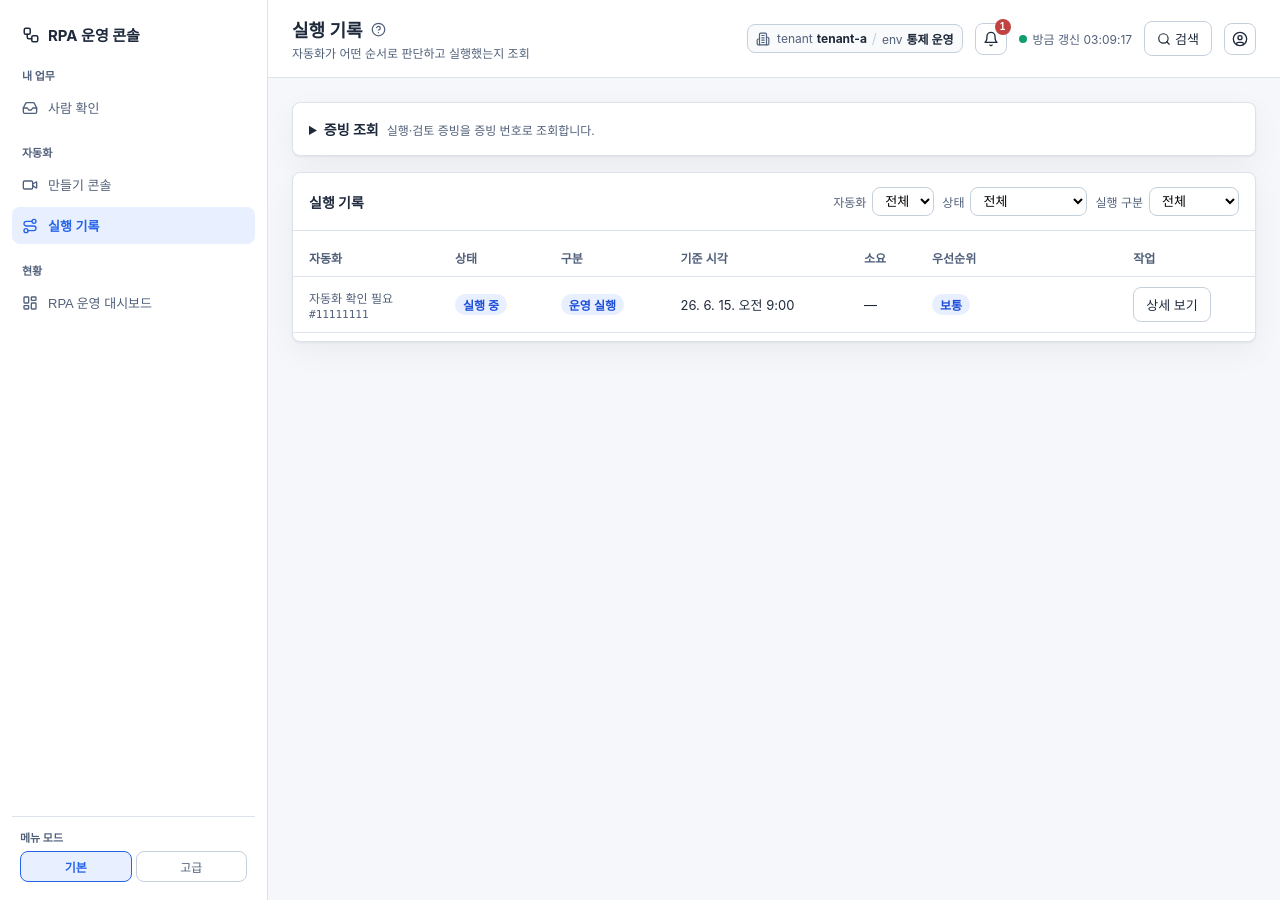
Scenario: 실행 상세 상태 패널 — 터미널 상태(F3) › failed_system → 단일 상태 패널 red + 실패 라벨 + 단계 트레이스 유도 문구
Click the button with aria-label "실행 추적 상세 보기": x=1172, y=304 [1133,287,1211,322]
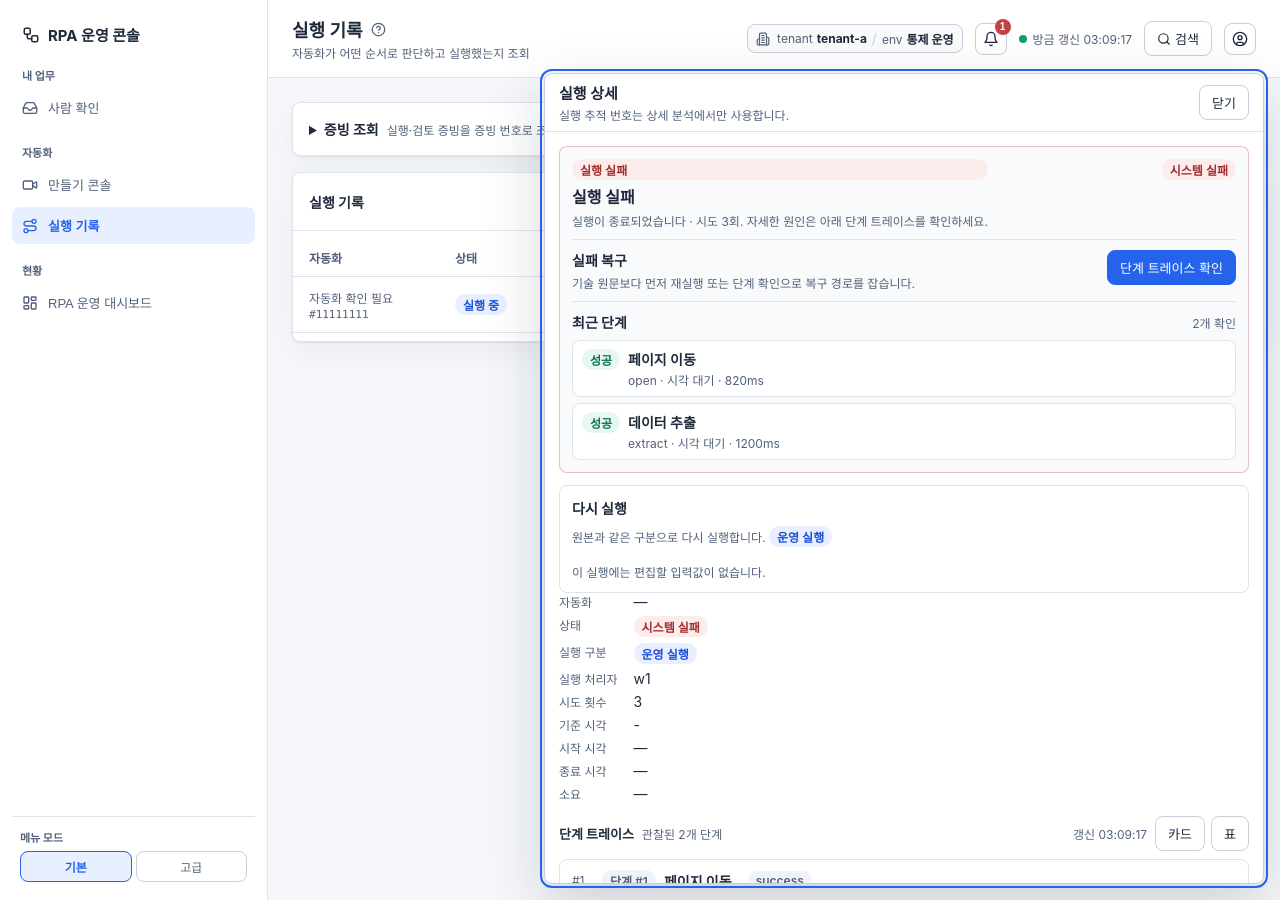
Check: the element named "테스트 실행 상태" shows "시스템 실패", box [1170,163,1228,178]
Check: the element named "테스트 실행 상태" shows "시도 3회", box [572,214,988,229]
Check: the element named "테스트 실행 상태" shows "단계 트레이스", box [1107,250,1236,285]
